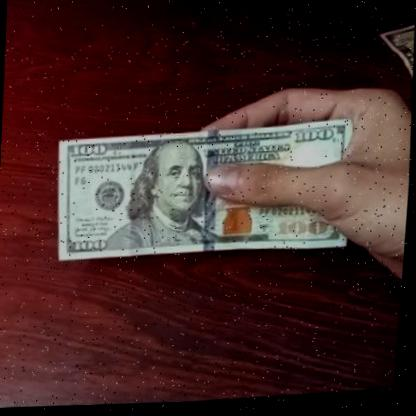one_hundred-front: (51, 110, 361, 279)
